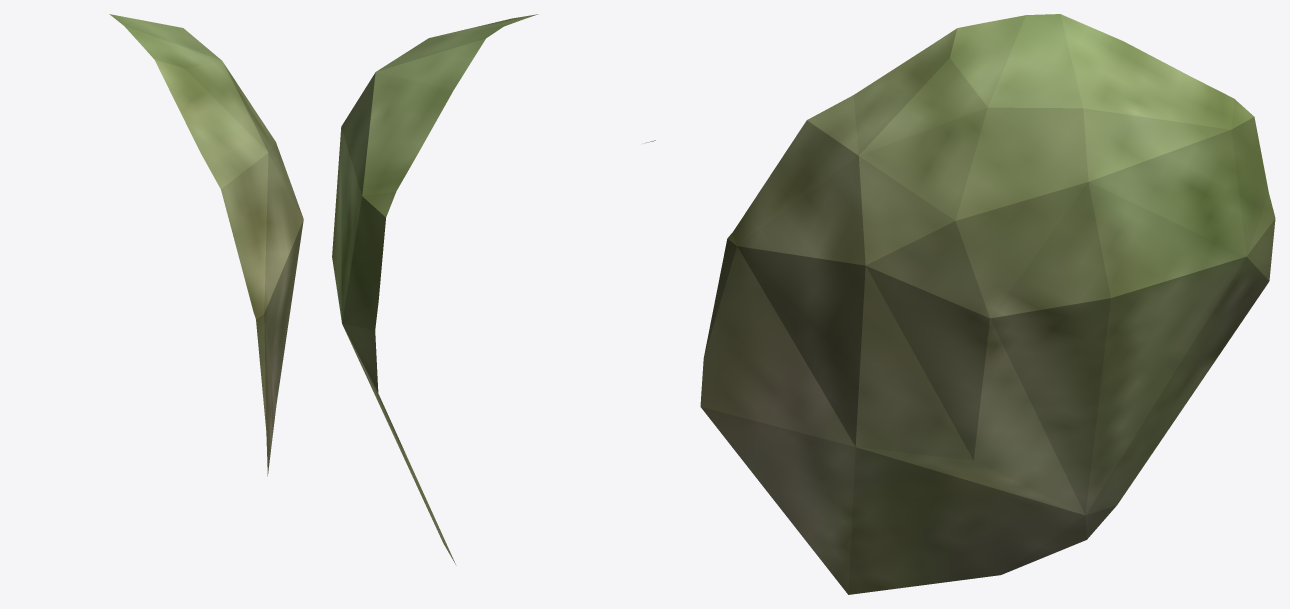
3 views of the same model, side by side, from view 1: azimuth 30°, elevation 25°; view 2: azimuth 150°, elevation 25°; view 3: azimuth 270°, elevation 25° (orthographic). The views are drawn at different scales.
Size of the model in its own units: 0.1034 by 0.4004 by 0.3592.
1 material, 1 textured.
